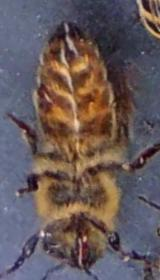varroa_mite: (29, 80, 59, 116)
